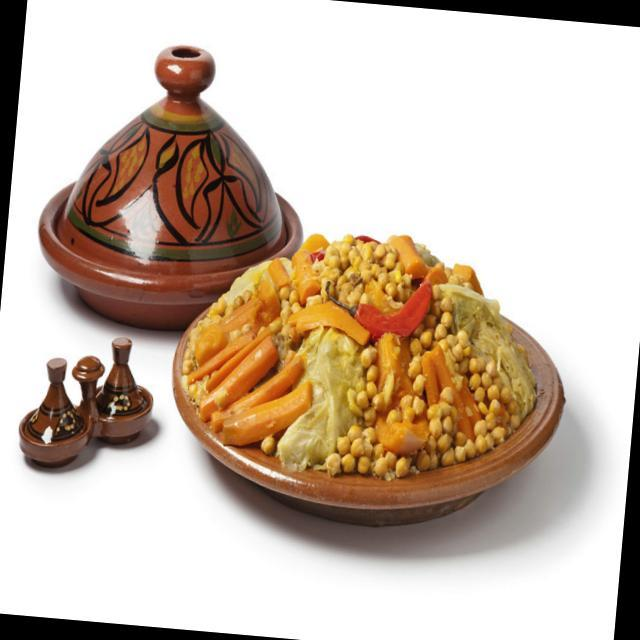Couscous: (163, 214, 575, 541)
